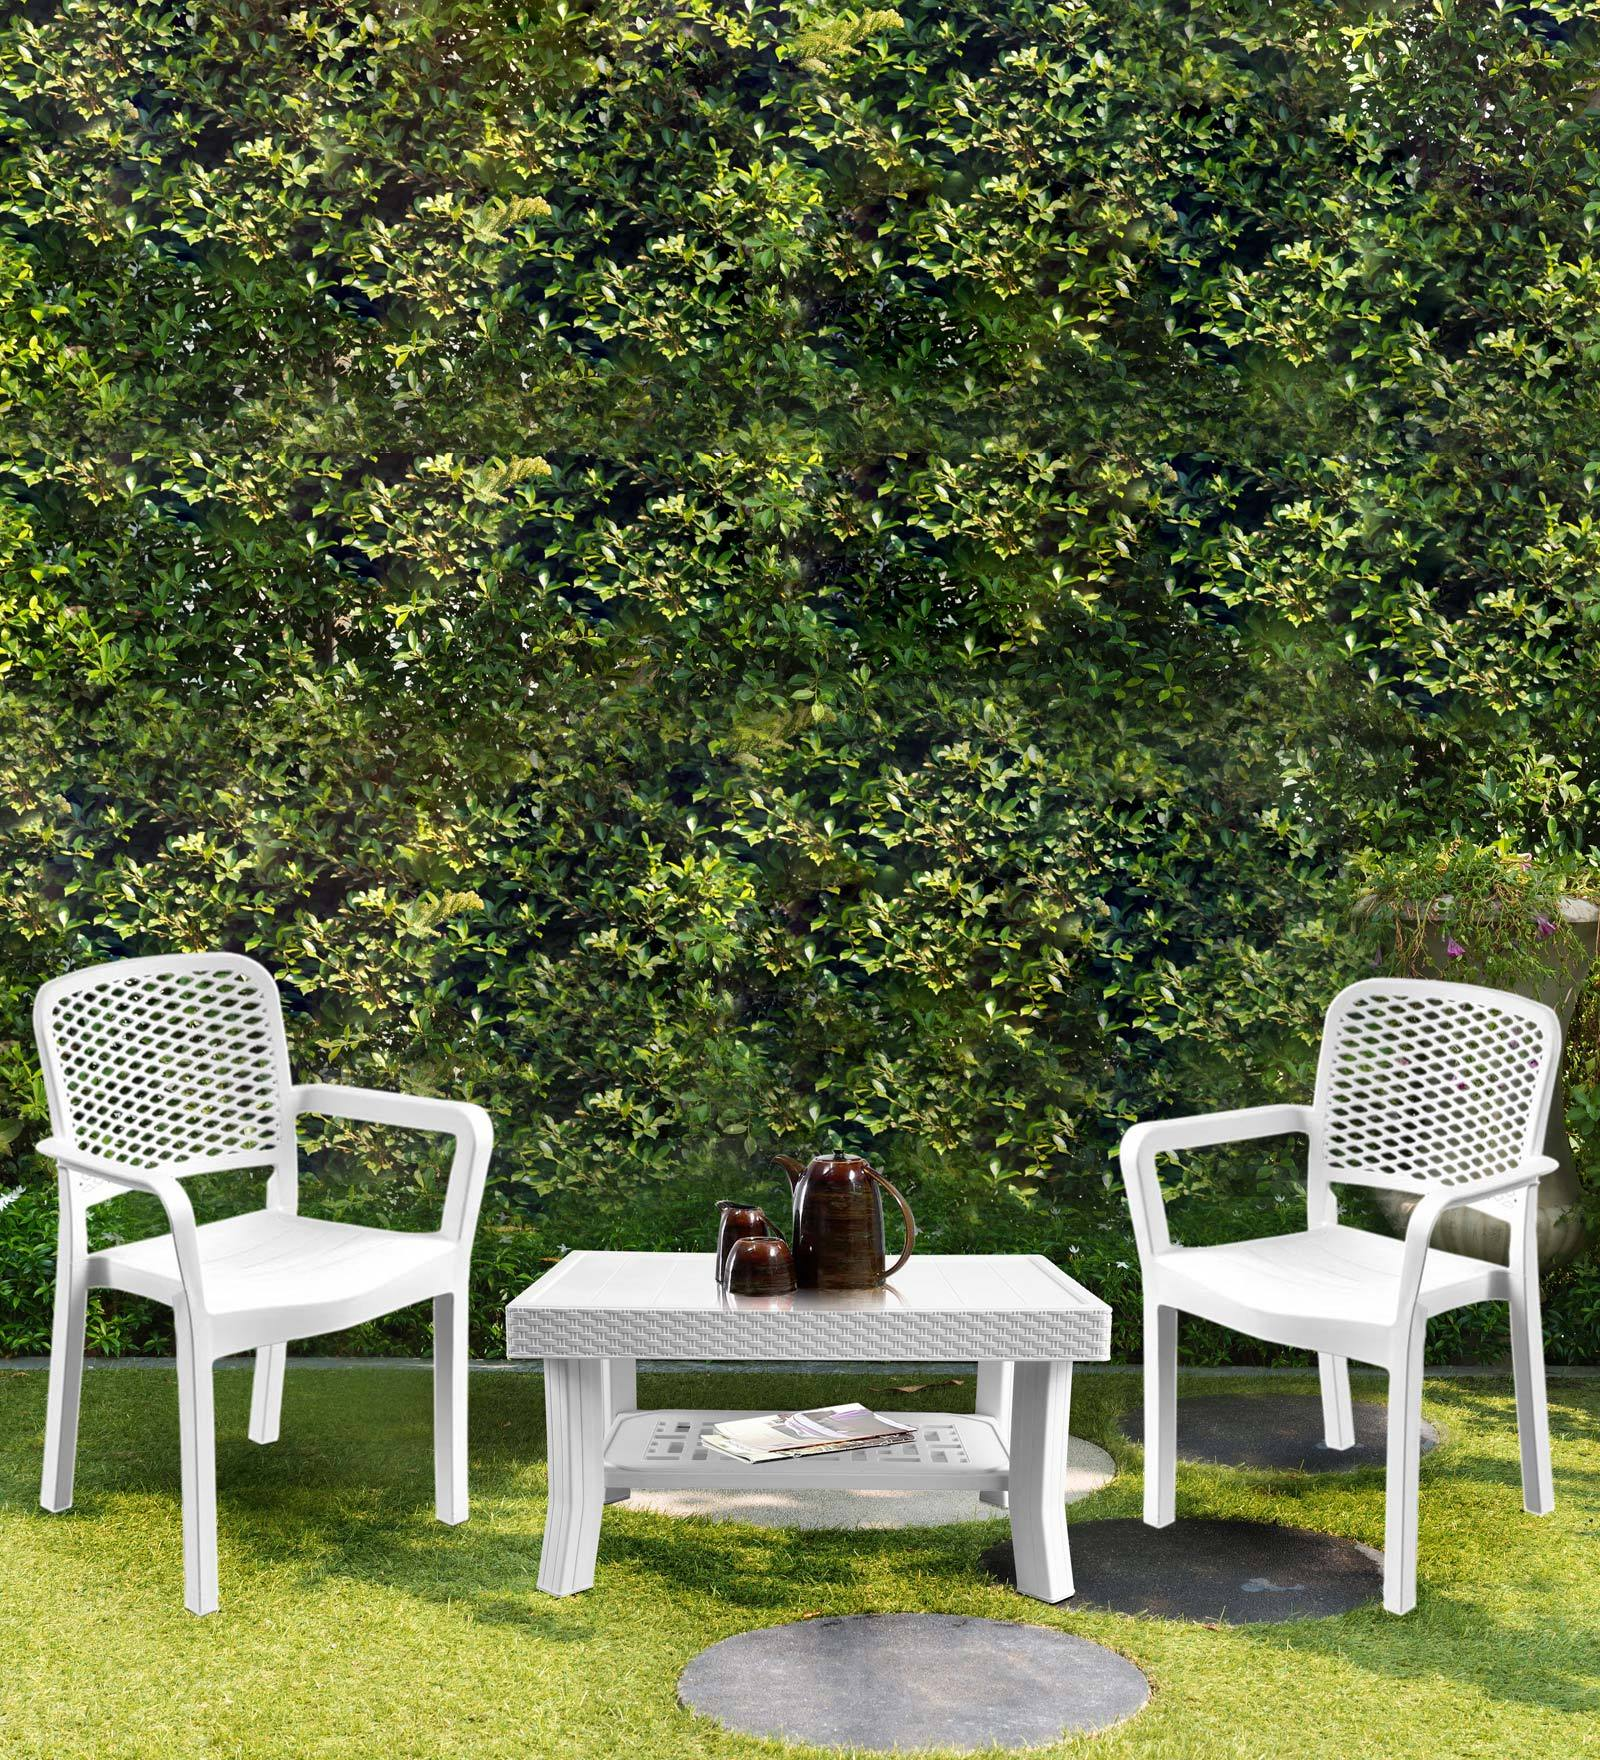Luxury Plastic Chair in White Colour by Italica Furniture: (1120, 947, 1579, 1643), (21, 951, 483, 1607)
